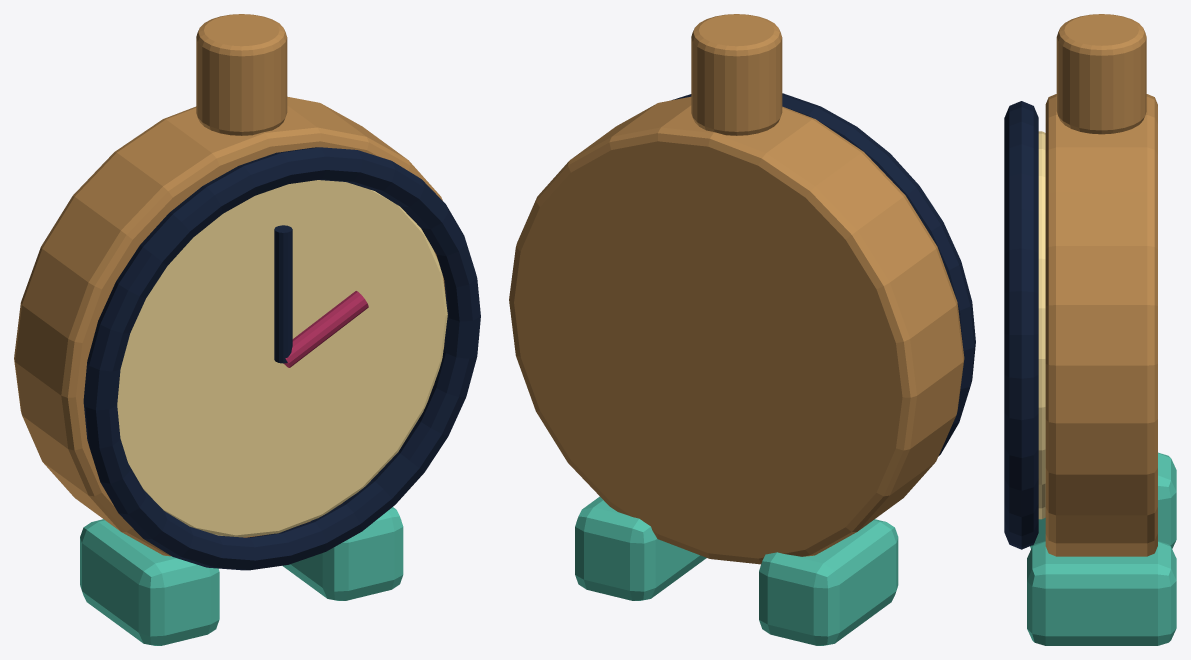
The model's file is Item_extra_time.fbx.
3 renders of one model, left to right at view 1: azimuth 30°, elevation 25°; view 2: azimuth 150°, elevation 25°; view 3: azimuth 270°, elevation 25°, orthographic.
Parts seen in each view (by area): view 1: Item_extra_time.Mesh; view 2: Item_extra_time.Mesh; view 3: Item_extra_time.Mesh.
Part boxes in pixels (<box>): Item_extra_time.Mesh: <box>14,14,480,645</box>; Item_extra_time.Mesh: <box>509,14,975,645</box>; Item_extra_time.Mesh: <box>1004,14,1176,645</box>.
Size of the model in its own units: 62 by 82.5 by 23.
